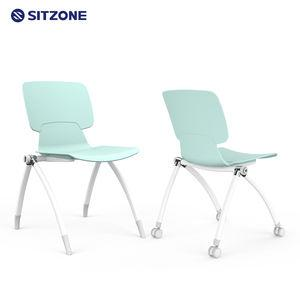chair: (2, 73, 146, 278), (152, 78, 288, 267)
